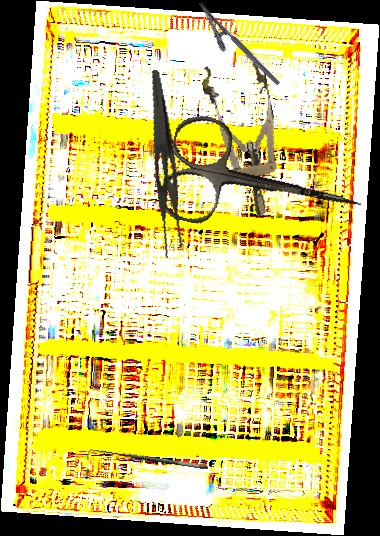Dressing Forceps: (130, 69, 193, 259)
Hook Surgical: (84, 444, 209, 479)
Iris Scissors: (156, 110, 373, 259)
Needle Holder: (186, 0, 281, 97)
Speculum: (199, 55, 292, 223)
